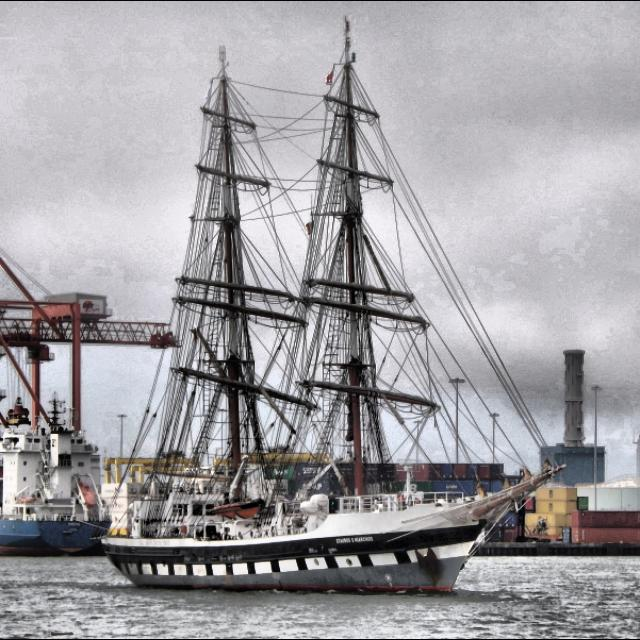sailing_vessel: (98, 14, 568, 596)
